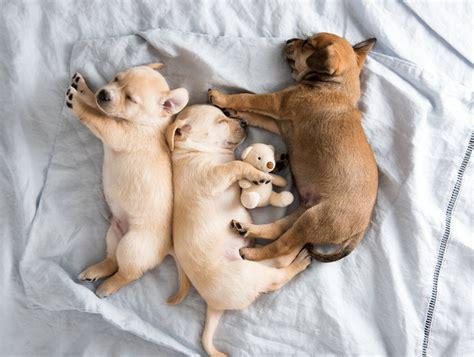dog: (208, 31, 379, 264), (166, 104, 310, 357), (67, 62, 188, 304)
